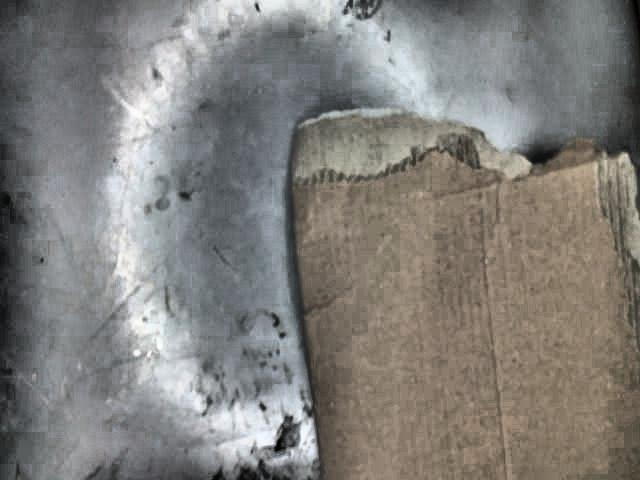Paper: (289, 107, 640, 478)
